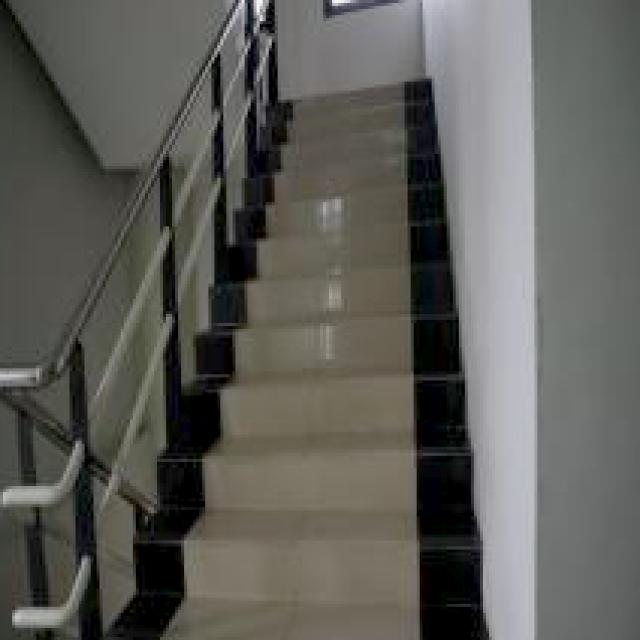upstair: (263, 82, 496, 640)
